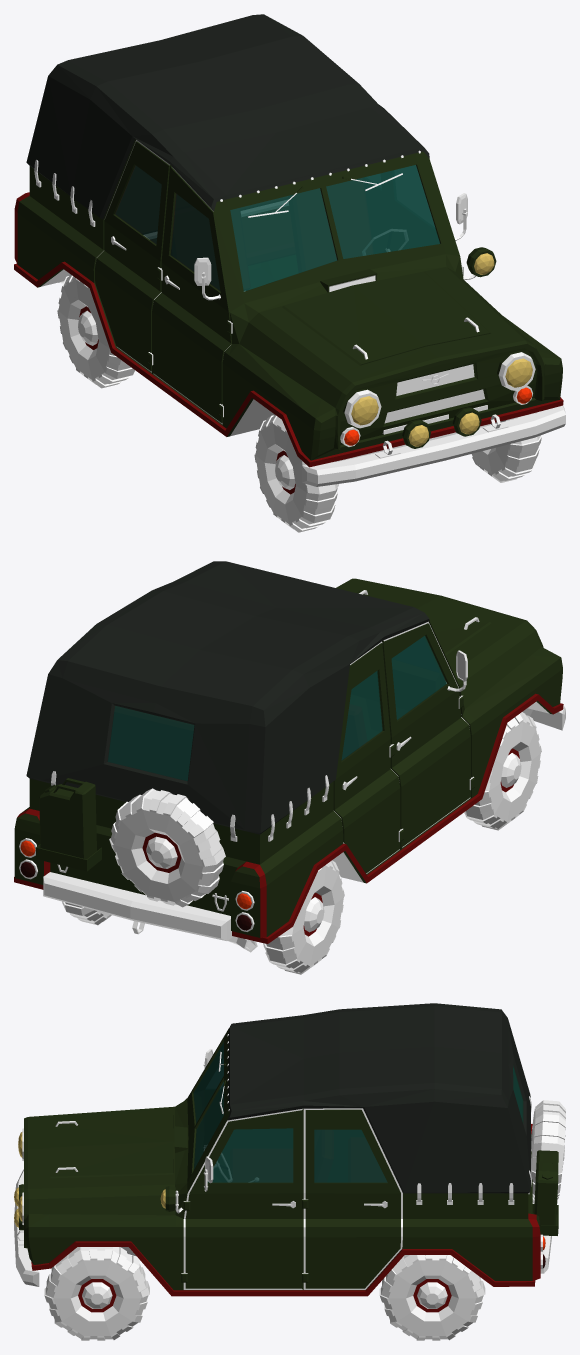
The model's file is MilitaryJeep_04.FBX.
3 renders of one model, top to bottom at view 1: azimuth 30°, elevation 25°; view 2: azimuth 150°, elevation 25°; view 3: azimuth 270°, elevation 25°, orthographic. The views are drawn at different scales.
Parts seen in each view (by area): view 1: MilitaryJeep_04, interior, bumper_f, wheel_f_r, wheel_b_r, lights, wheel_f_l, headLights; view 2: MilitaryJeep_04, spareWheel, interior, bumper_b, wheel_f_r, jerryCan, wheel_b_r, wheel_b_l, bumper_f, lights; view 3: MilitaryJeep_04, interior, wheel_f_l, wheel_b_l, spareWheel, jerryCan, bumper_f, lights.
Boxes of the visible parts, box(x1,y1,x2,y2) form: MilitaryJeep_04: box(14, 14, 563, 467); interior: box(115, 165, 439, 291); bumper_f: box(302, 405, 565, 486); wheel_f_r: box(254, 414, 338, 532); wheel_b_r: box(57, 274, 134, 388); lights: box(340, 247, 535, 448); wheel_f_l: box(471, 412, 541, 482); headLights: box(351, 358, 532, 446); MilitaryJeep_04: box(14, 561, 563, 943); spareWheel: box(109, 788, 225, 907); interior: box(108, 636, 446, 780); bumper_b: box(43, 872, 233, 940); wheel_f_r: box(464, 712, 541, 830); jerryCan: box(35, 778, 101, 871); wheel_b_r: box(263, 860, 344, 974); wheel_b_l: box(62, 901, 111, 925); bumper_f: box(522, 706, 565, 730); lights: box(19, 838, 254, 931); MilitaryJeep_04: box(18, 1003, 540, 1296); interior: box(194, 1043, 522, 1182); wheel_f_l: box(44, 1247, 149, 1340); wheel_b_l: box(379, 1255, 485, 1340); spareWheel: box(531, 1100, 565, 1203); jerryCan: box(532, 1150, 558, 1235); bumper_f: box(14, 1169, 39, 1286); lights: box(19, 1128, 542, 1270).
Size of the model in its own units: 21.79 by 22.24 by 44.35.
